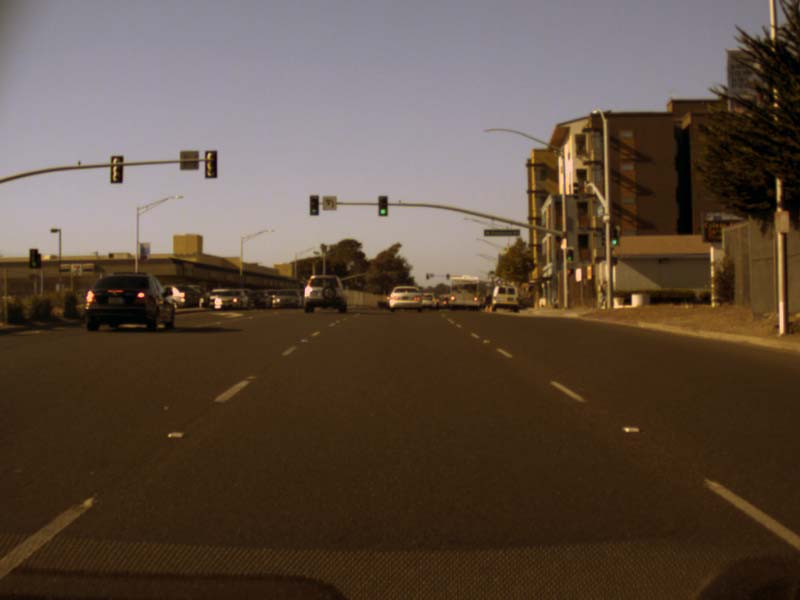Green: (377, 196, 387, 215), (30, 249, 37, 267), (565, 247, 573, 262), (310, 198, 318, 213), (611, 229, 617, 245)
